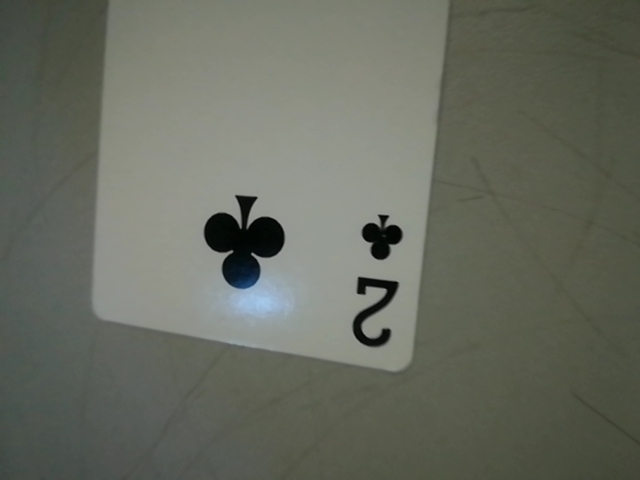mh 2: (339, 195, 416, 361)
